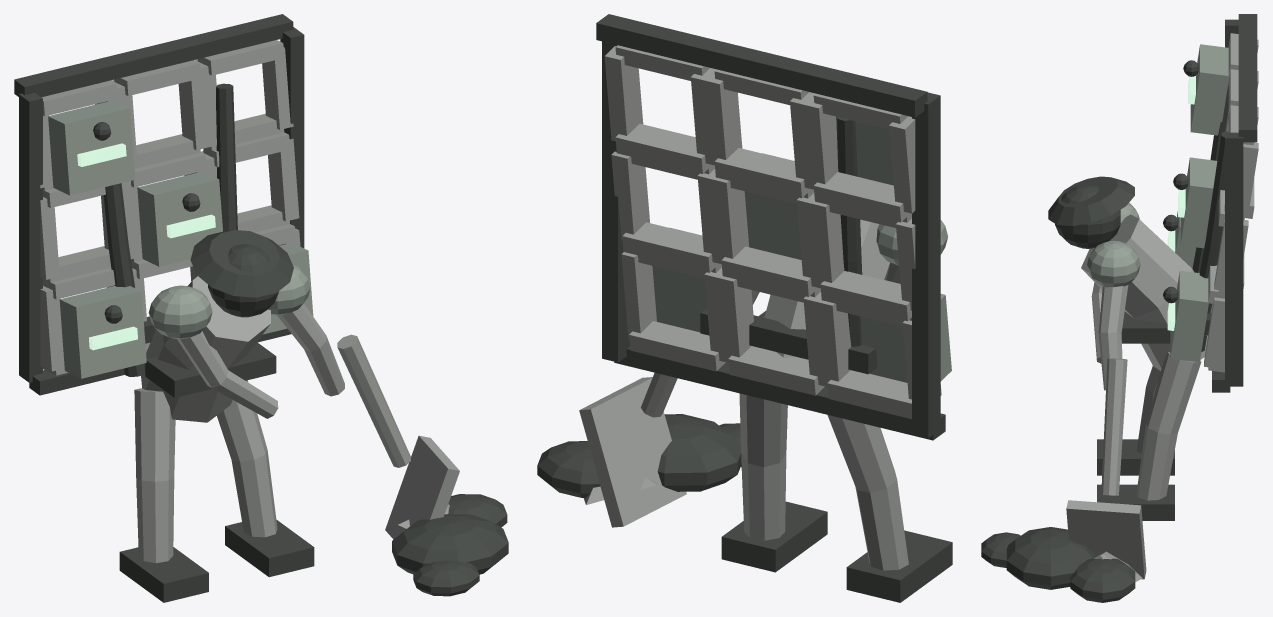
The model's file is sexton.glb.
The picture shows the model from 3 angles, left to right: view 1: azimuth 30°, elevation 25°; view 2: azimuth 150°, elevation 25°; view 3: azimuth 270°, elevation 25°; orthographic projection. The views are drawn at different scales.
Visible parts, largest first — view 1: sexton_bone, sexton_dark, sexton_body, sexton_glow; view 2: sexton_bone, sexton_dark, sexton_body; view 3: sexton_dark, sexton_bone, sexton_body, sexton_glow.
Part boxes in pixels (bbox=[...]): sexton_bone: bbox=[40, 40, 459, 563]; sexton_dark: bbox=[14, 14, 508, 602]; sexton_body: bbox=[48, 100, 313, 378]; sexton_glow: bbox=[77, 143, 215, 350]; sexton_bone: bbox=[579, 45, 941, 570]; sexton_dark: bbox=[537, 14, 952, 602]; sexton_body: bbox=[652, 121, 951, 382]; sexton_dark: bbox=[981, 14, 1257, 602]; sexton_bone: bbox=[1066, 33, 1258, 602]; sexton_body: bbox=[1087, 44, 1229, 362]; sexton_glow: bbox=[1167, 76, 1195, 330].
Bounding box in the file's own units: 2.14 × 2.45 × 1.44.
